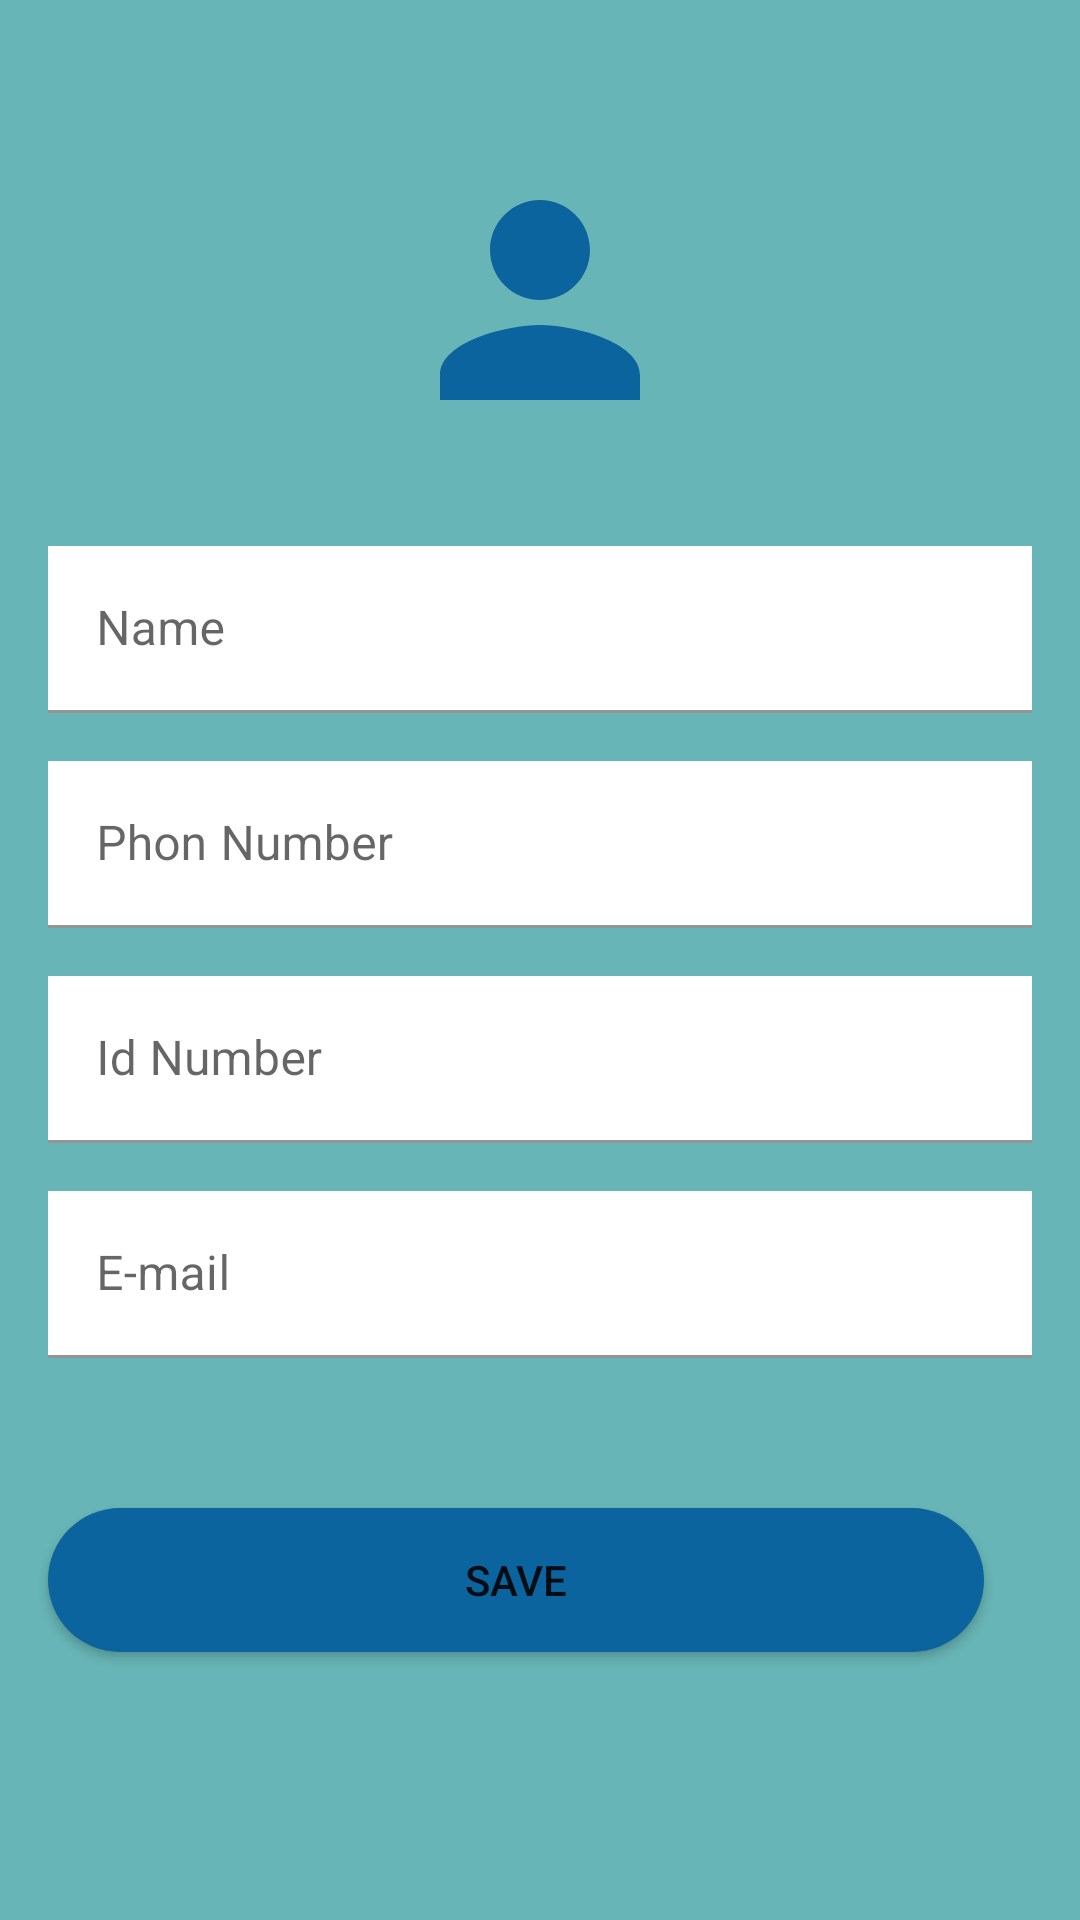

Where icons sit on this 1080 x 1920 app screen, as [x1,y1,x2,y2]:
person: [440,200,640,400]
